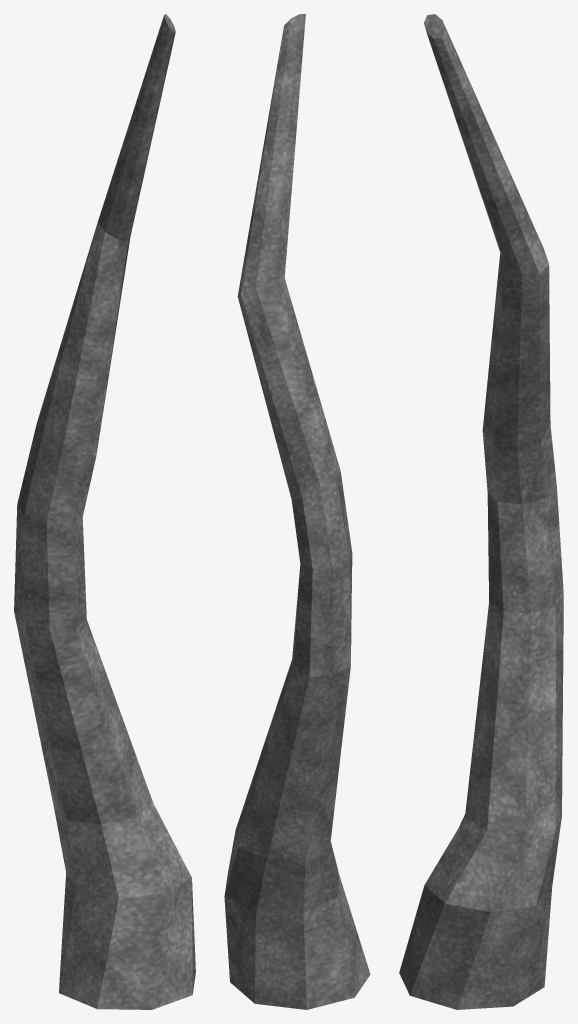
The model's file is spike individual var 4.fbx.
The picture shows the model from 3 angles, left to right: view 1: azimuth 30°, elevation 25°; view 2: azimuth 150°, elevation 25°; view 3: azimuth 270°, elevation 25°; orthographic projection. The views are drawn at different scales.
Parts seen in each view (by area): view 1: spike individual var 4; view 2: spike individual var 4; view 3: spike individual var 4.
Boxes of the visible parts, x1=… form: spike individual var 4: x1=14, y1=14, x2=195, y2=1009; spike individual var 4: x1=224, y1=14, x2=370, y2=1009; spike individual var 4: x1=399, y1=14, x2=563, y2=1009.
Size of the model in its own units: 171 by 1118 by 171.
